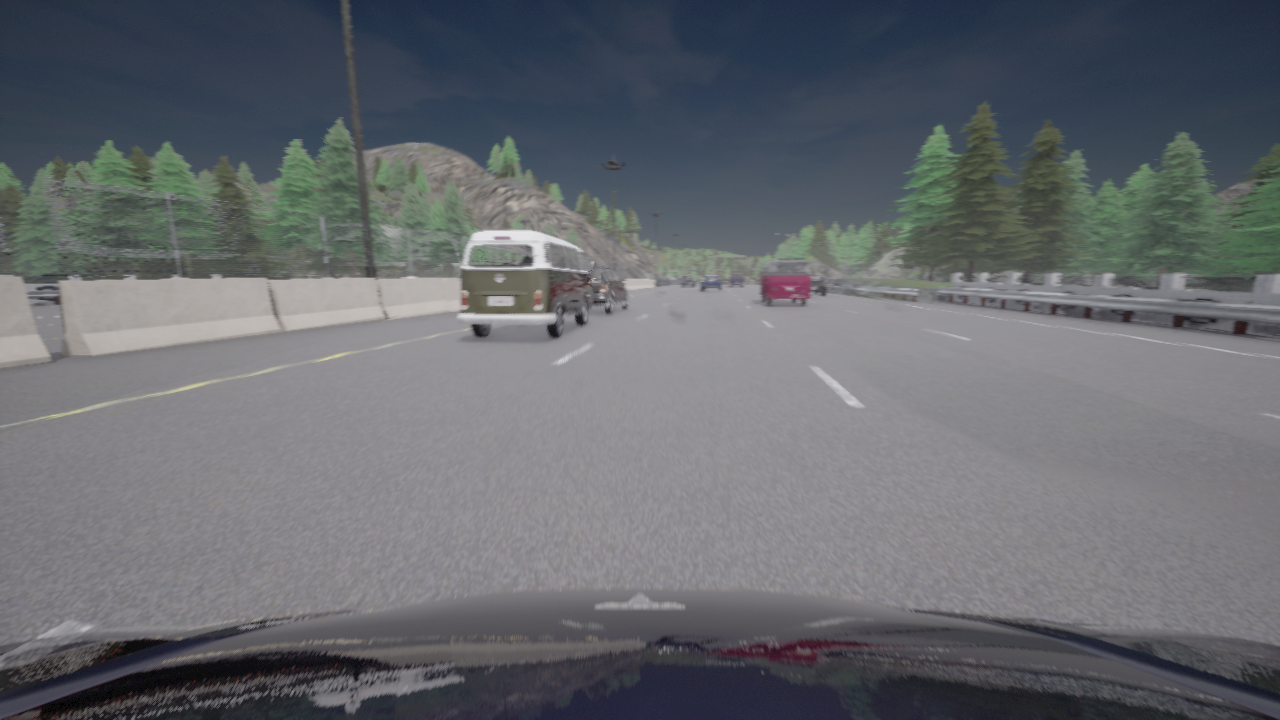cyclist: (0, 588, 1279, 719), (458, 230, 595, 338), (564, 267, 628, 314), (759, 260, 810, 305), (809, 275, 827, 295), (701, 275, 721, 291), (730, 273, 743, 286), (682, 276, 694, 286)
